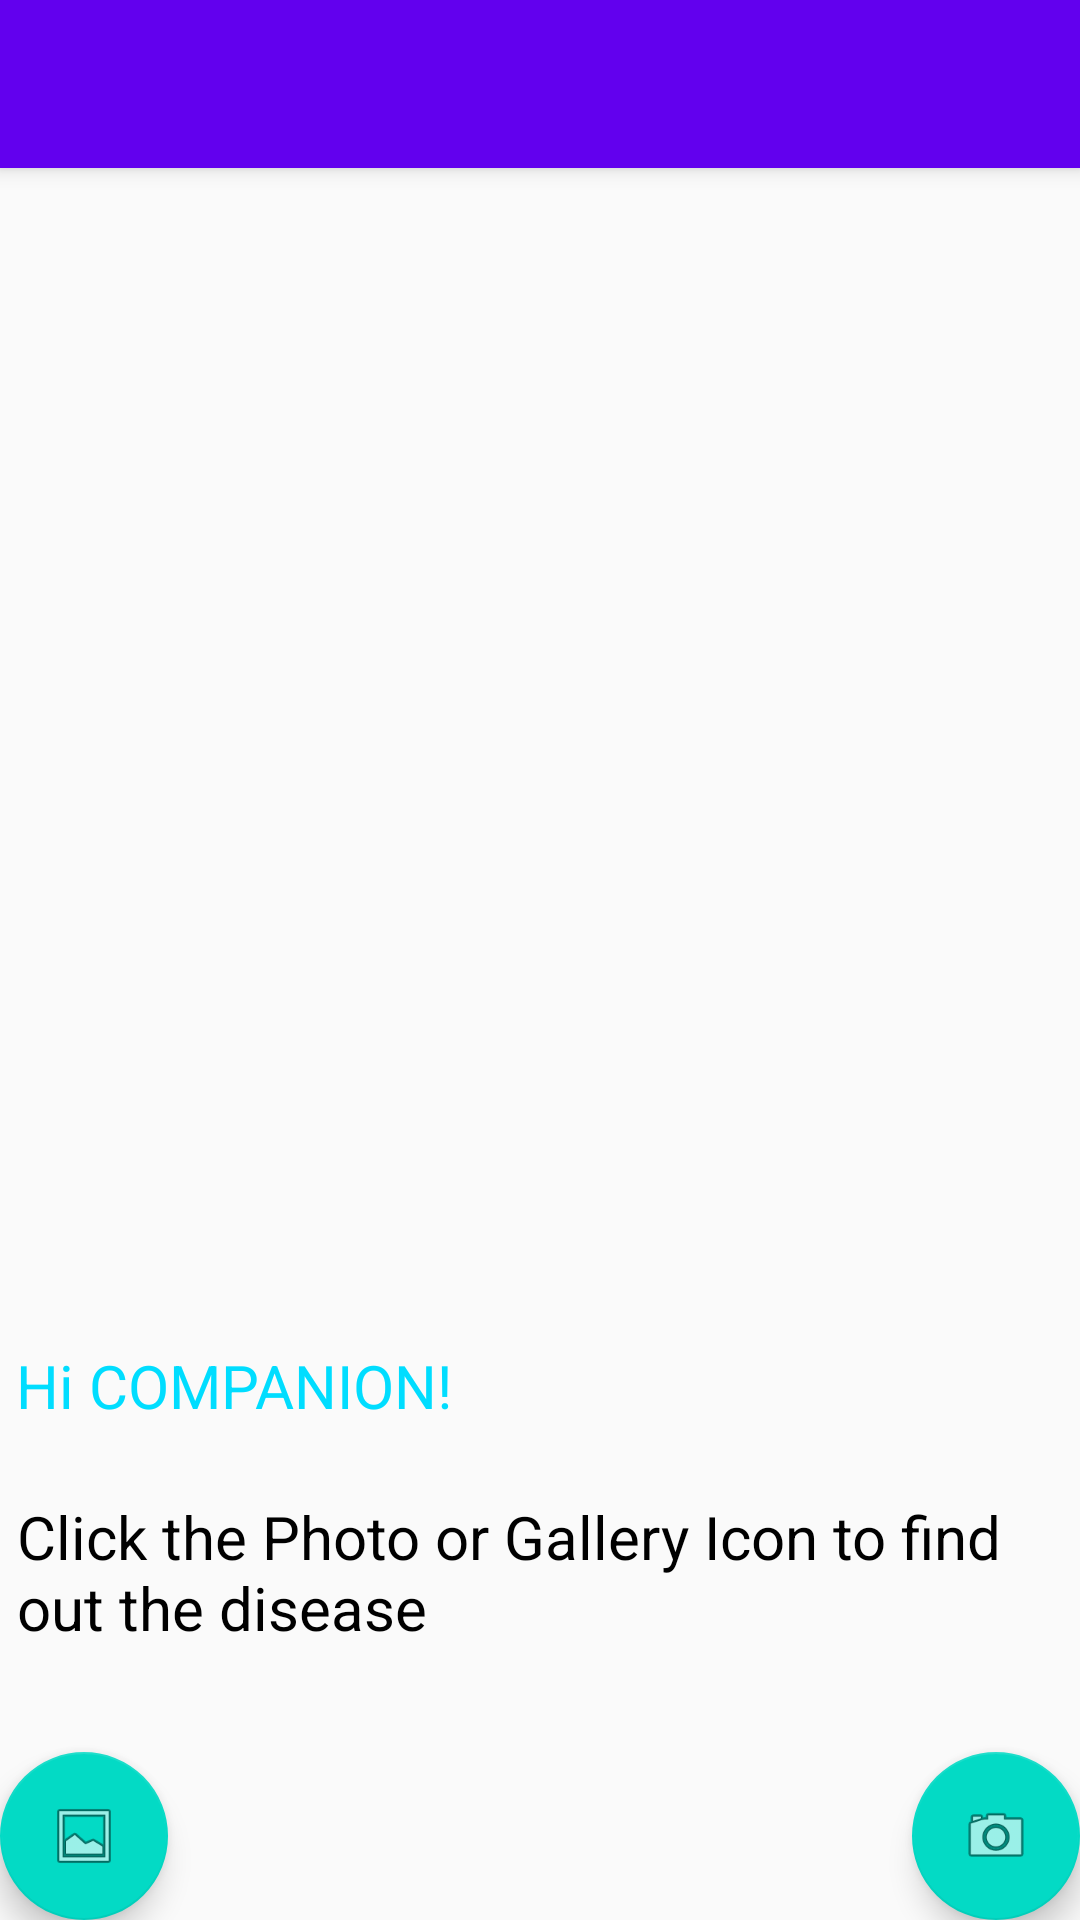

Icons on this 1080w x 1920h Android screen, each with its box as (x1, y1, x2, y2):
camera: (912, 1752, 1080, 1920)
